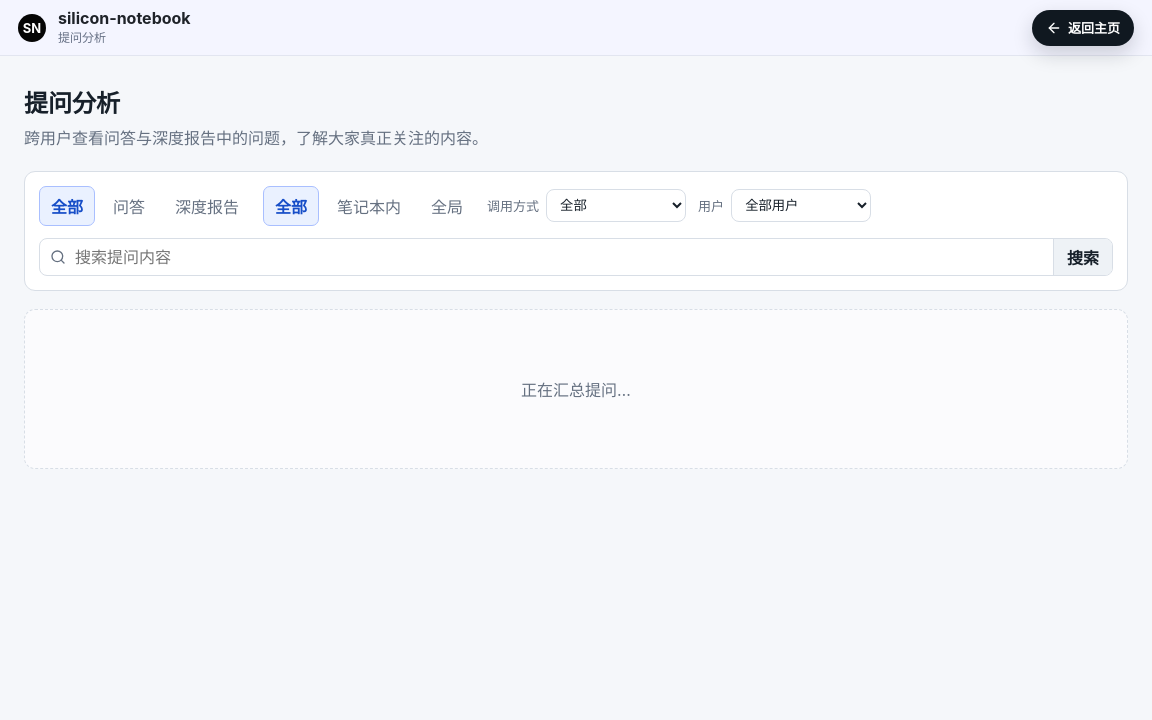
Scenario: 加载中重复选择当前来源不会作废在途结果
Click the 1st button "全部".
click(67, 206)  # box x1=39 y1=186 x2=95 y2=226
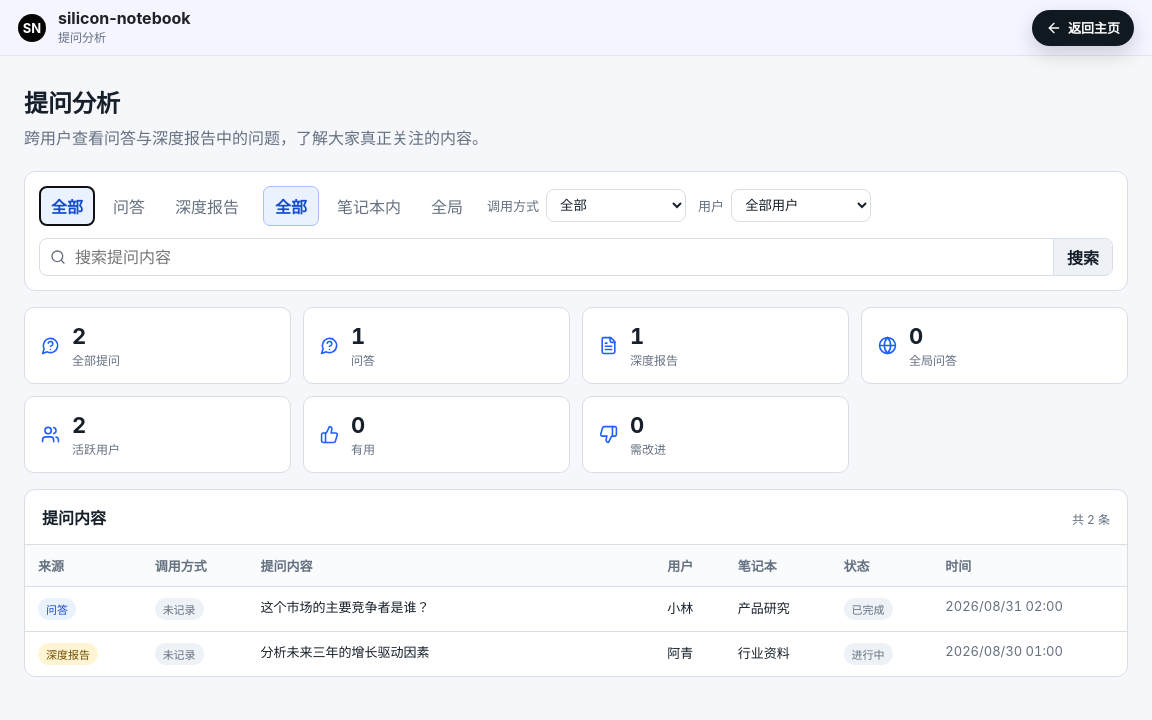
Expected: the text "这个市场的主要竞争者是谁？" is shown, x1=247 y1=586 x2=654 y2=631
